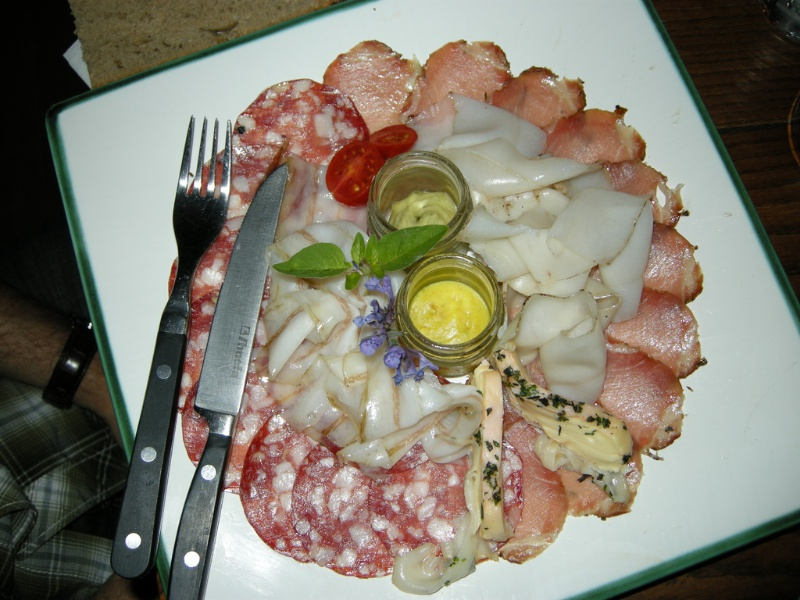knife: (166, 157, 292, 598)
